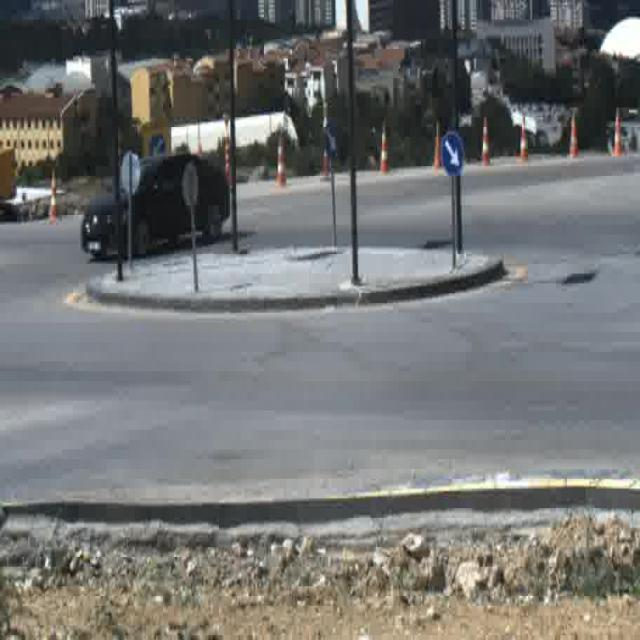Car: (80, 150, 229, 264)
